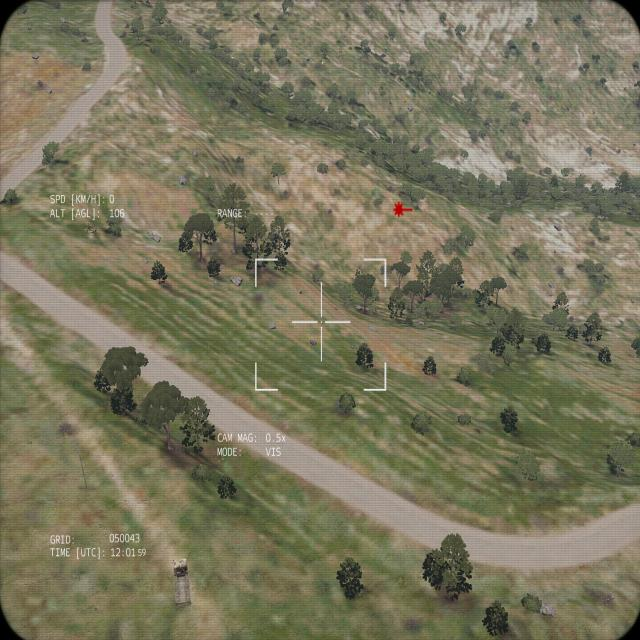truck: (171, 556, 192, 606)
